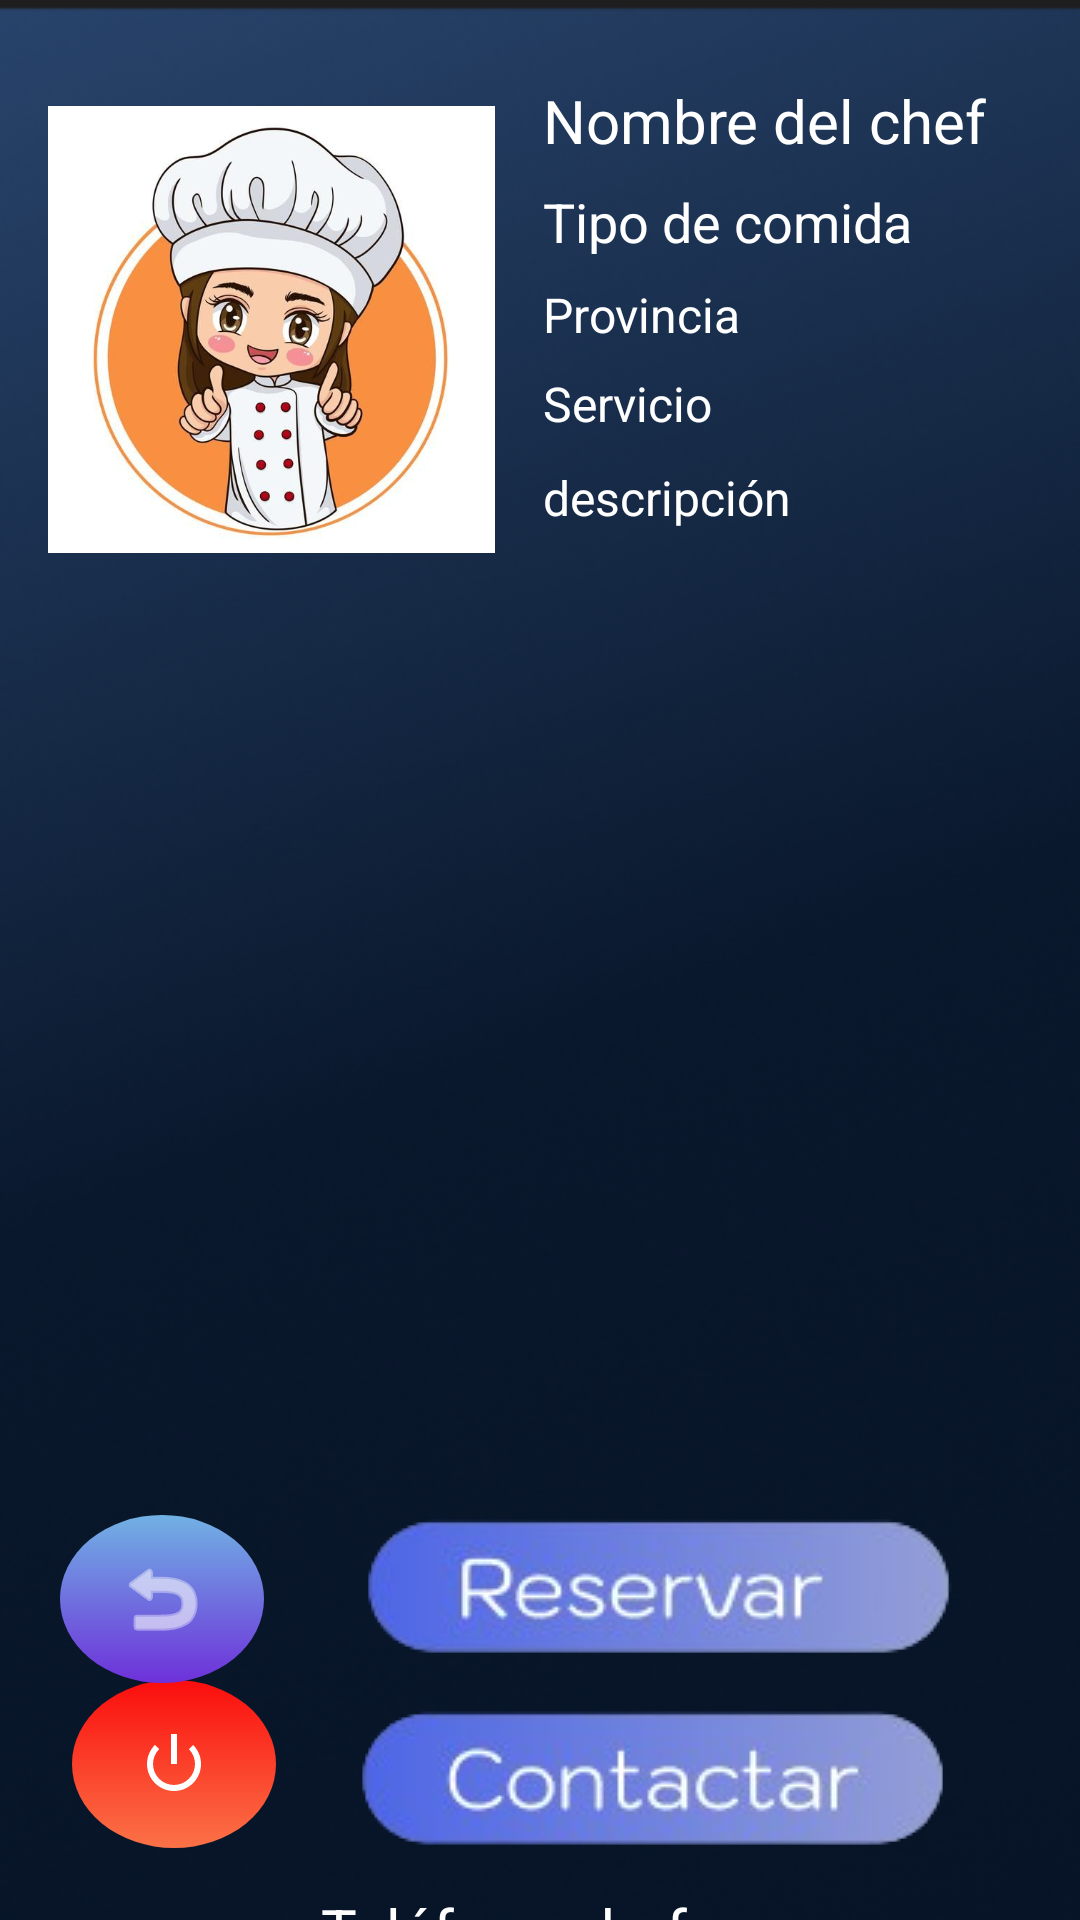

Icons on this 1080x1920 Android screen, each with its box as (x1, y1, x2, y2):
lock power off: (72, 1680, 276, 1848)
revert: (60, 1515, 264, 1683)
